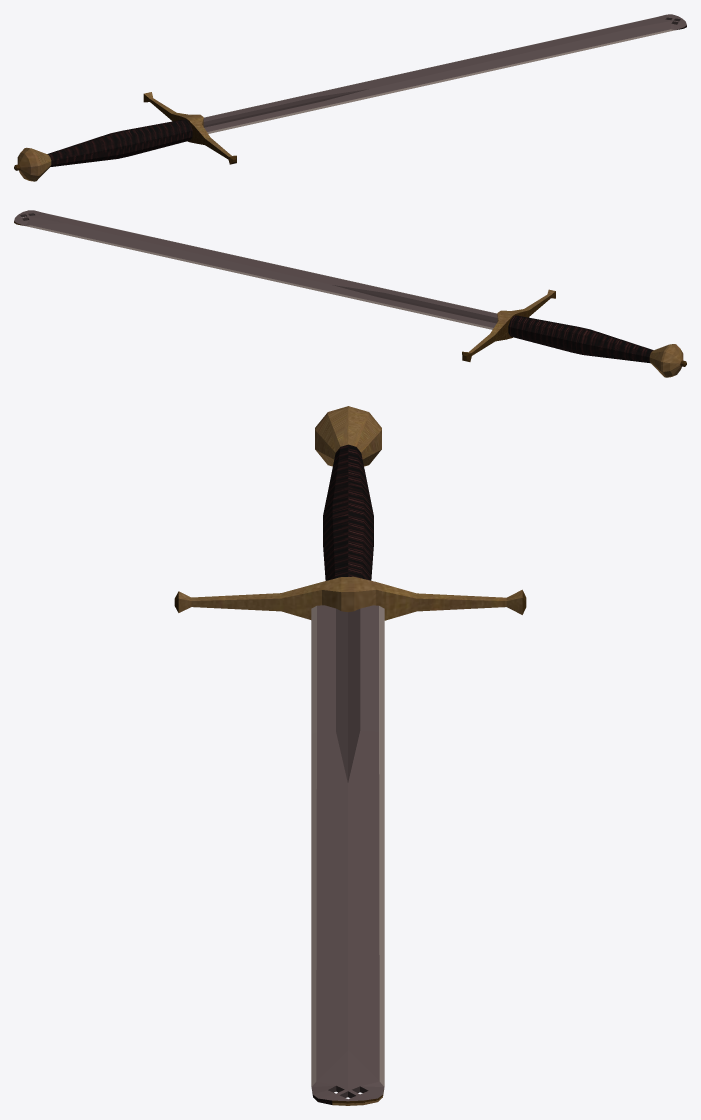
Rendered from WorldItem_ExecutionersSword.fbx.
3 renders of one model, top to bottom at view 1: azimuth 30°, elevation 25°; view 2: azimuth 150°, elevation 25°; view 3: azimuth 270°, elevation 25°, orthographic. The views are drawn at different scales.
Parts seen in each view (by area): view 1: ZomboidExecutionersSword; view 2: ZomboidExecutionersSword; view 3: ZomboidExecutionersSword.
Boxes of the visible parts, left/top/right/bottom form: ZomboidExecutionersSword: left=14, top=14, right=686, bottom=181; ZomboidExecutionersSword: left=14, top=210, right=686, bottom=377; ZomboidExecutionersSword: left=174, top=406, right=526, bottom=1105.
Bounding box in the file's own units: 0.8663 × 0.04 × 0.1974.
